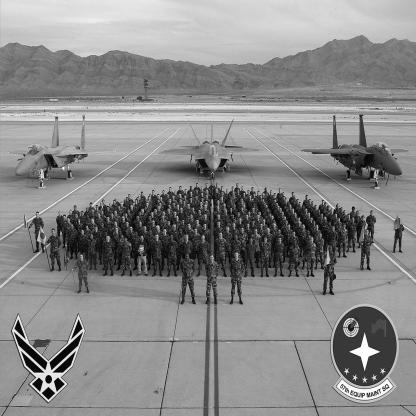F15: (8, 115, 119, 188), (302, 115, 411, 188)
F22: (160, 119, 264, 180)
